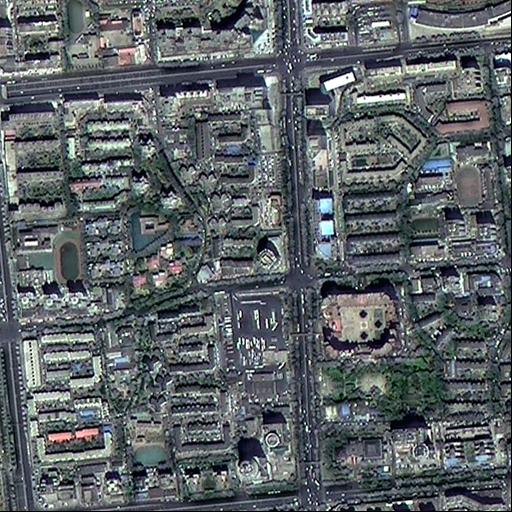school: (8, 218, 87, 287), (123, 200, 174, 256), (124, 411, 171, 468), (62, 1, 101, 67), (452, 160, 497, 215)
